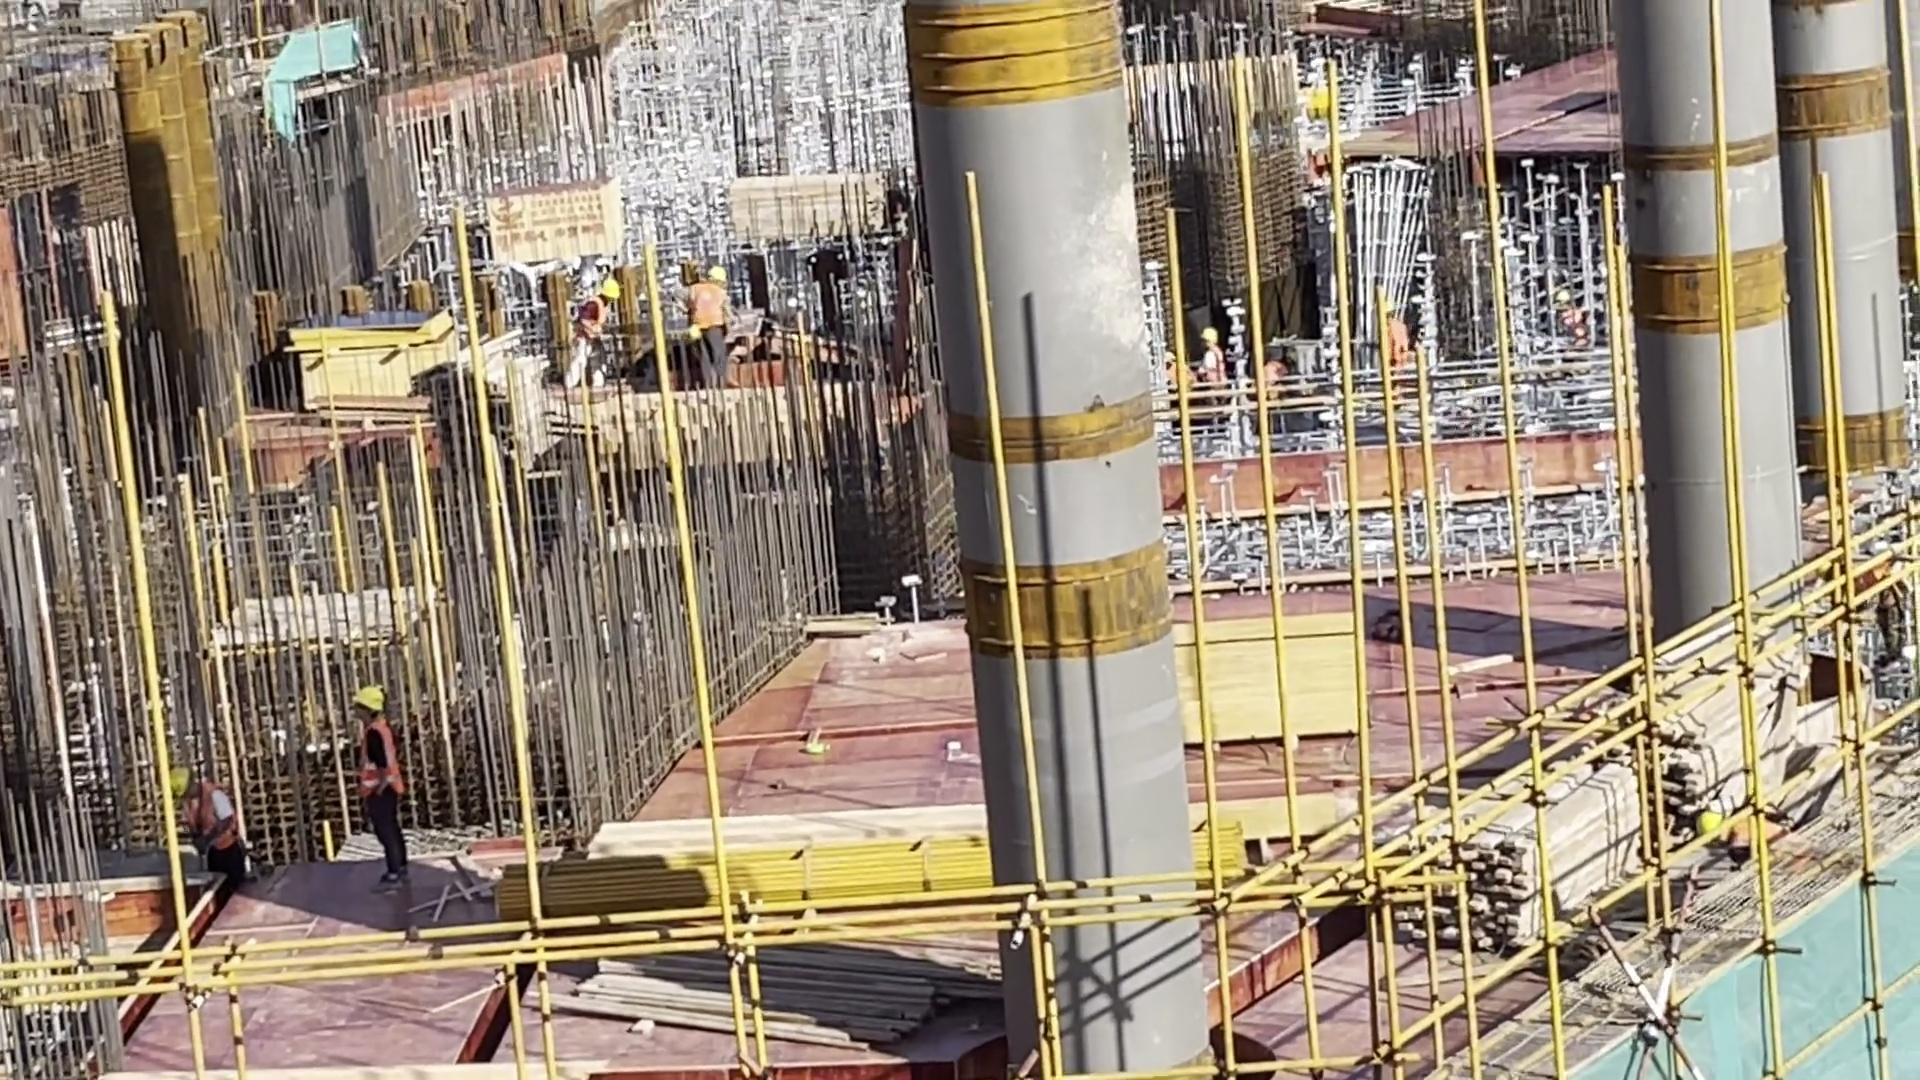helmet: (350, 685, 388, 723), (162, 765, 198, 806), (598, 276, 623, 303), (1200, 325, 1221, 351), (702, 268, 726, 288)
person: (350, 688, 423, 893), (162, 761, 259, 886), (558, 280, 634, 413), (689, 255, 746, 396), (1377, 301, 1422, 424), (1200, 320, 1230, 424)
vest: (359, 725, 409, 810), (184, 787, 241, 851), (693, 284, 734, 335), (574, 297, 609, 348)
